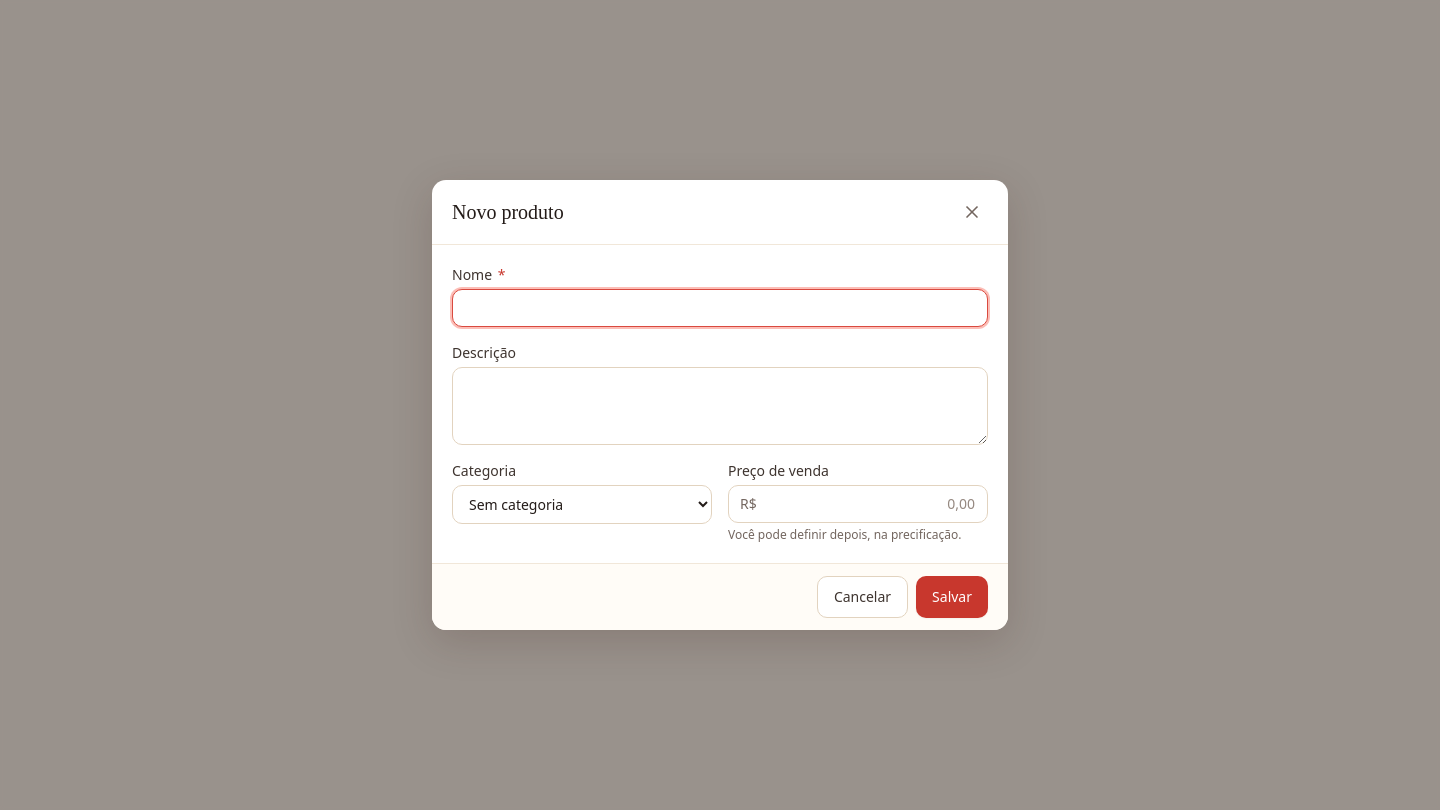
+ Nova categoria no cadastro › mostra na janela o erro de nome repetido
Select "+ Nova categoria" in the dropdown labelled "Categoria": (582, 504) [452,485,712,524]
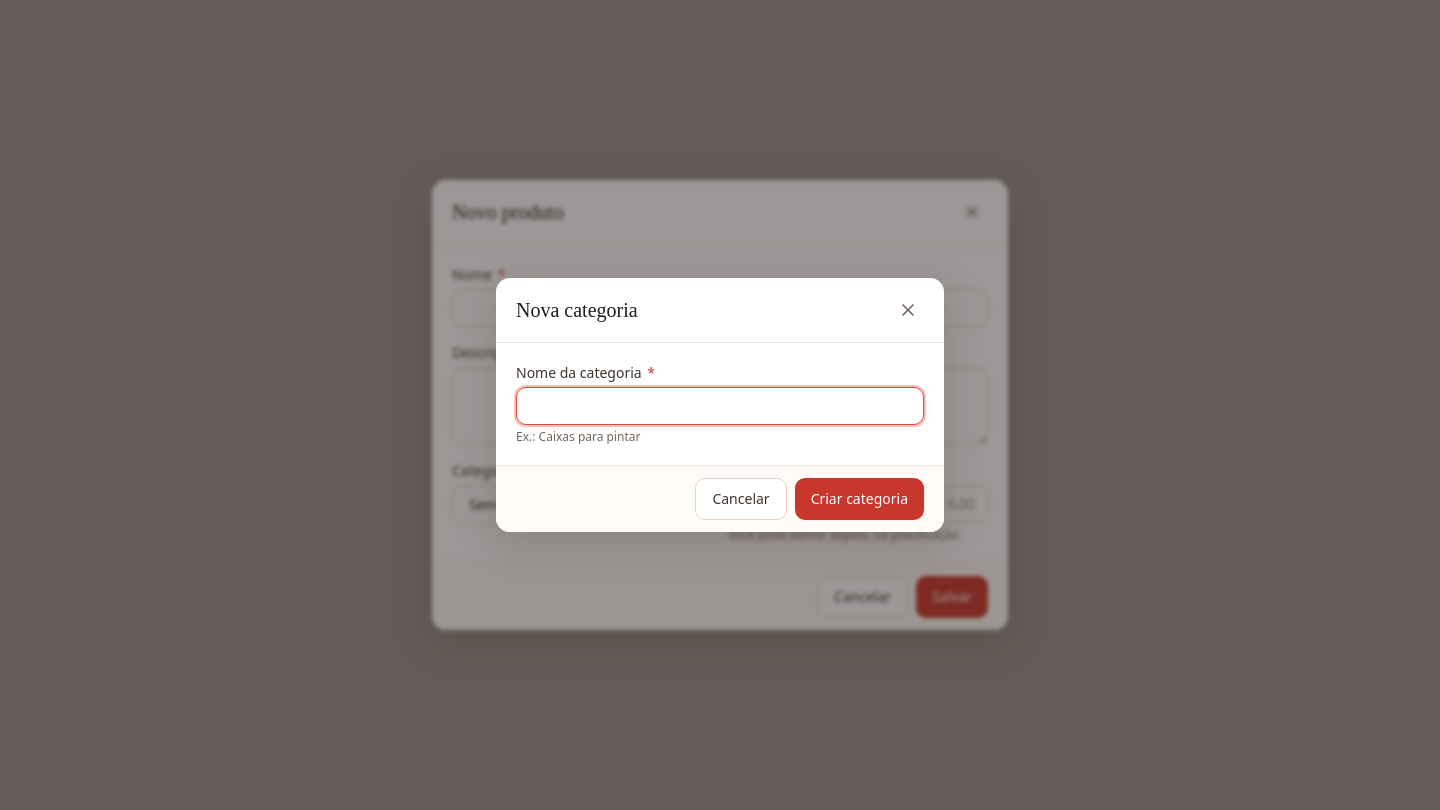
In the field labelled "Nome da categoria *": (720, 406) [516,387,924,425], type "Velas"
Then press Enter
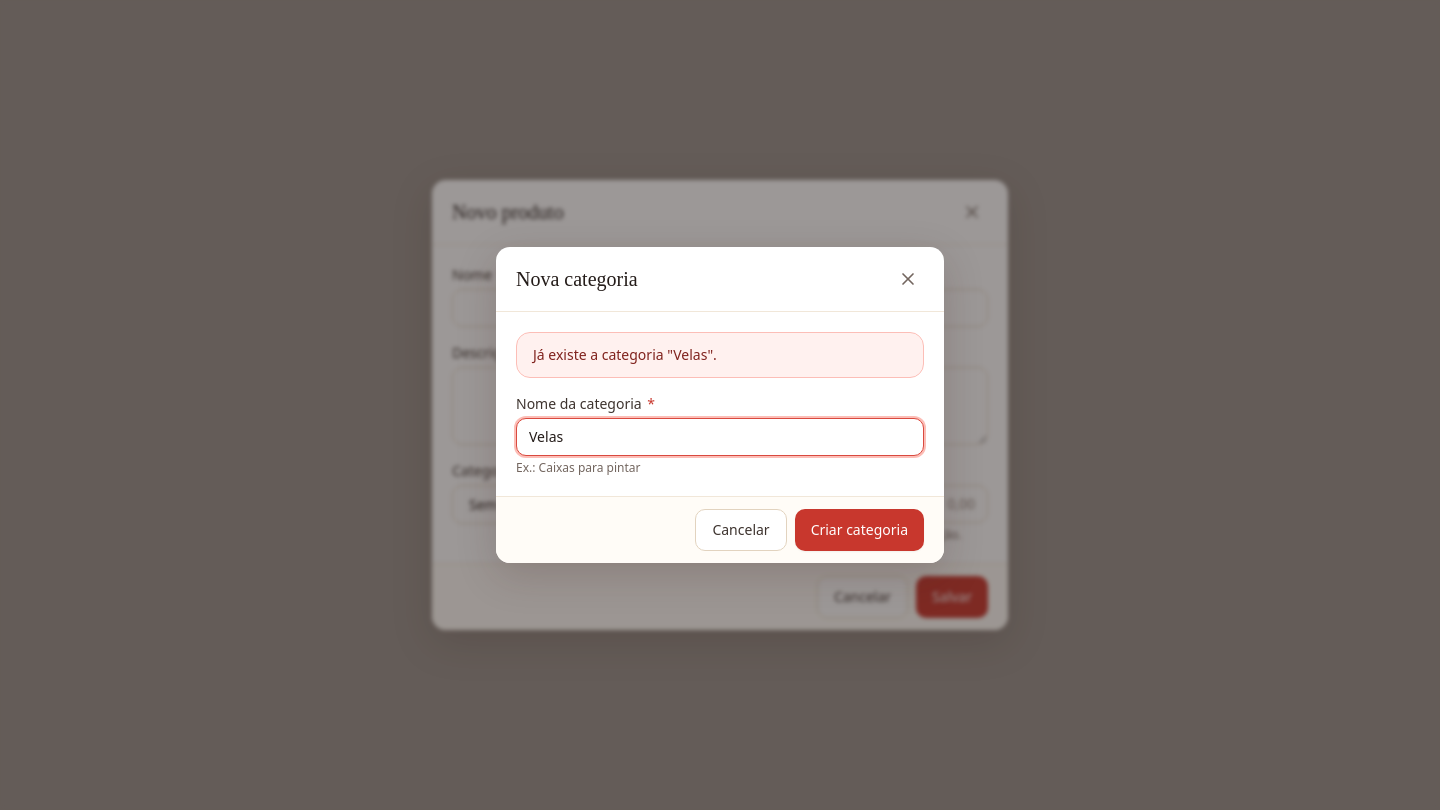
Expected: the message shows "Já existe a categoria", [533,345,717,364]
